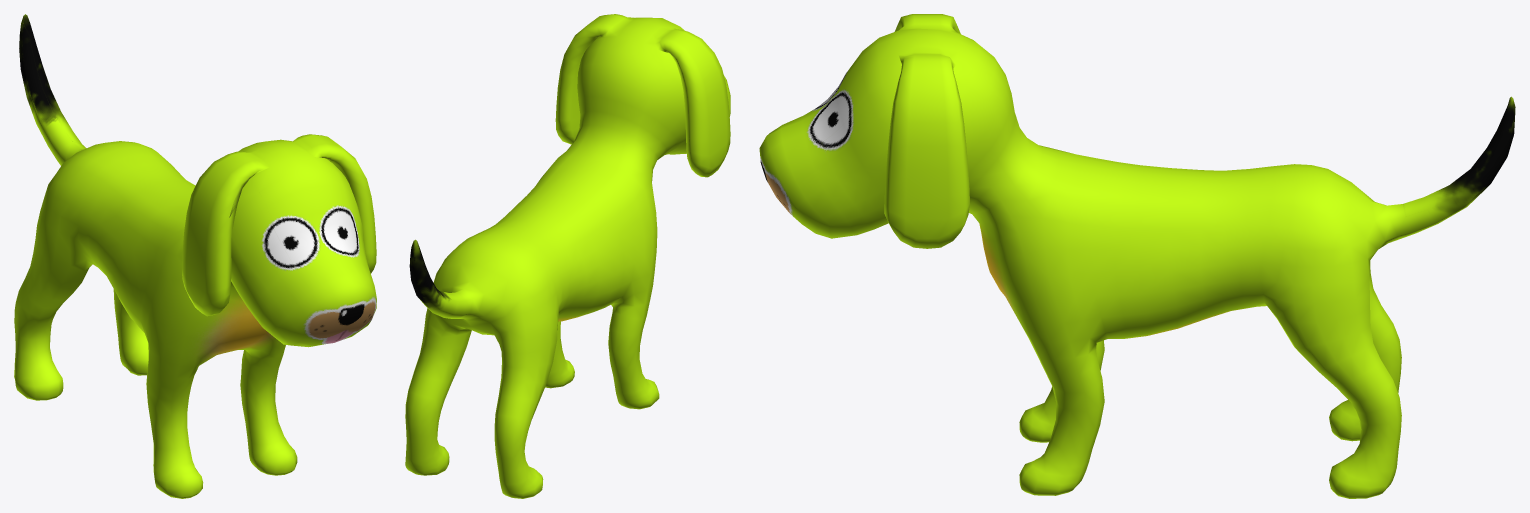
Rendered from hund.glb.
3 renders of one model, left to right at view 1: azimuth 30°, elevation 25°; view 2: azimuth 150°, elevation 25°; view 3: azimuth 270°, elevation 25°, orthographic. The views are drawn at different scales.
Parts seen in each view (by area): view 1: mesh_id27; view 2: mesh_id27; view 3: mesh_id27.
Boxes of the visible parts, x1,y1,x2,y2 form: mesh_id27: (14,14,376,498); mesh_id27: (405,14,730,498); mesh_id27: (759,14,1515,498).
Size of the model in its own units: 0.1135 by 0.2409 by 0.3859.
1 material, 1 textured.
